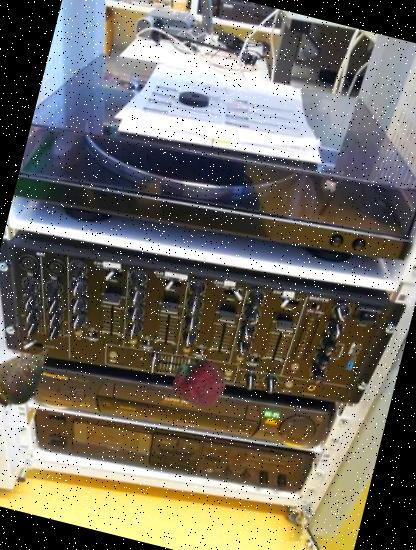Beetroot: (0, 324, 71, 426)
Strawberry: (166, 350, 233, 417)
